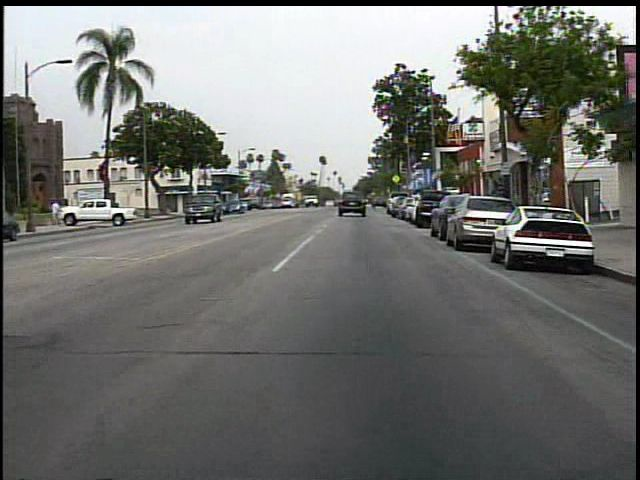person: (348, 188, 370, 220), (51, 198, 66, 228)
